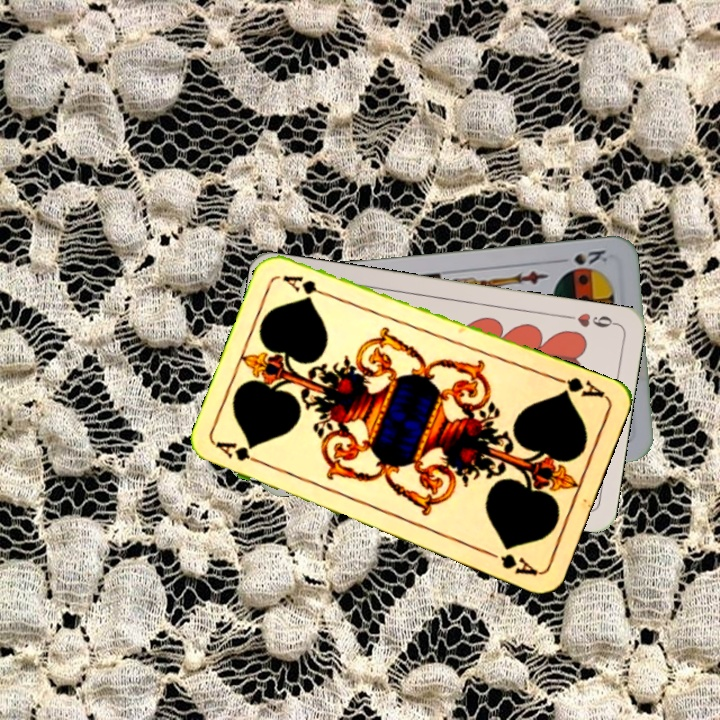GA: (213, 437, 269, 469), (549, 373, 608, 401)
H9: (560, 309, 619, 330)
SK: (559, 246, 610, 274)
